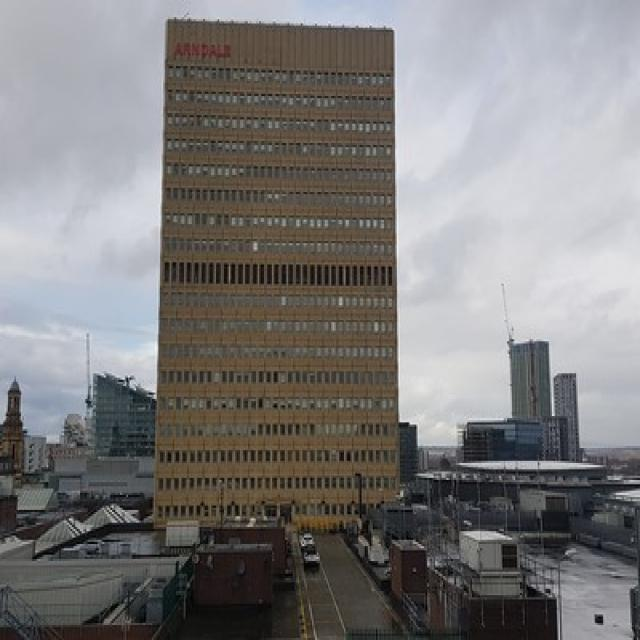Normal_building: (157, 18, 406, 549)
